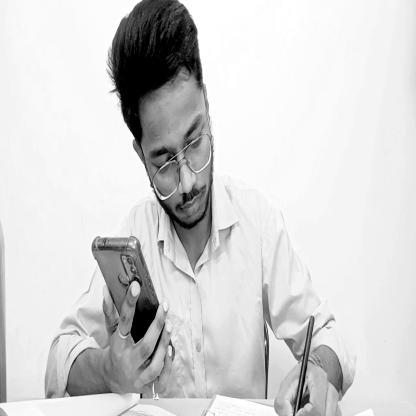Distracted: (109, 0, 218, 239)
